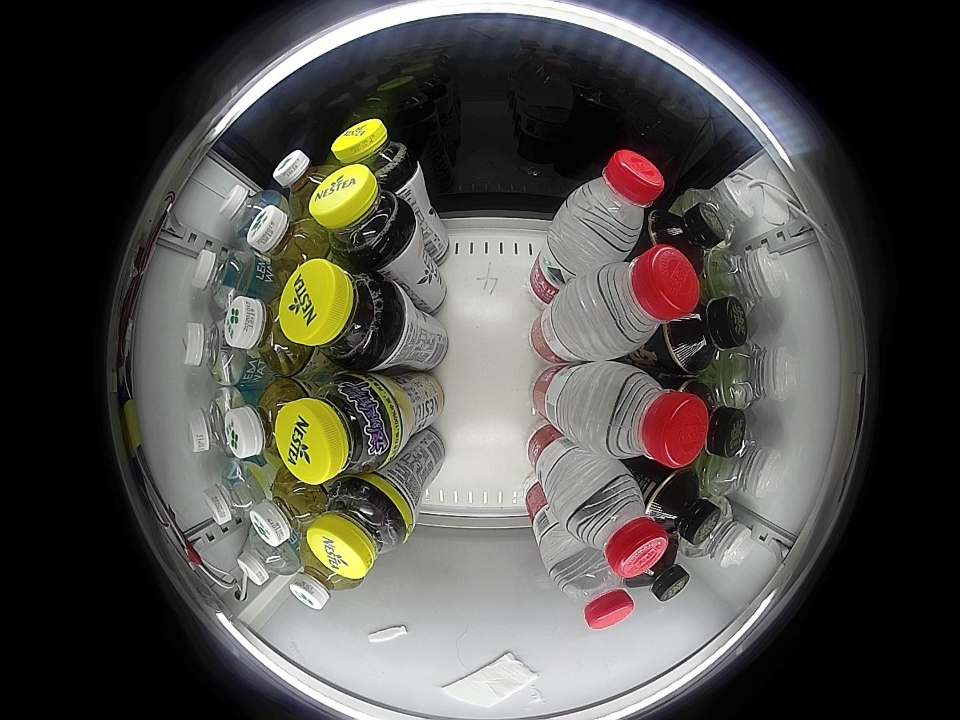baicha: (224, 295, 312, 378), (225, 379, 305, 459), (247, 206, 328, 281), (250, 472, 328, 546), (289, 547, 360, 610), (273, 150, 336, 215)
chacui: (280, 258, 406, 370), (276, 373, 402, 483), (311, 164, 416, 270), (307, 477, 411, 579), (332, 119, 419, 190)
jianjiao: (704, 426, 784, 499), (707, 244, 787, 315), (717, 341, 798, 409), (686, 176, 755, 246), (688, 500, 753, 569)
nongfushanquan: (568, 244, 698, 358), (585, 364, 707, 468), (563, 469, 668, 578), (560, 149, 664, 256), (552, 552, 635, 630)
qinningshui: (182, 319, 247, 385), (191, 247, 260, 309), (203, 460, 267, 526), (186, 388, 243, 457), (218, 183, 280, 244), (236, 529, 299, 586)
rancha-1: (664, 297, 748, 374), (645, 469, 721, 544), (647, 203, 725, 270), (683, 379, 746, 456), (631, 543, 690, 602)
